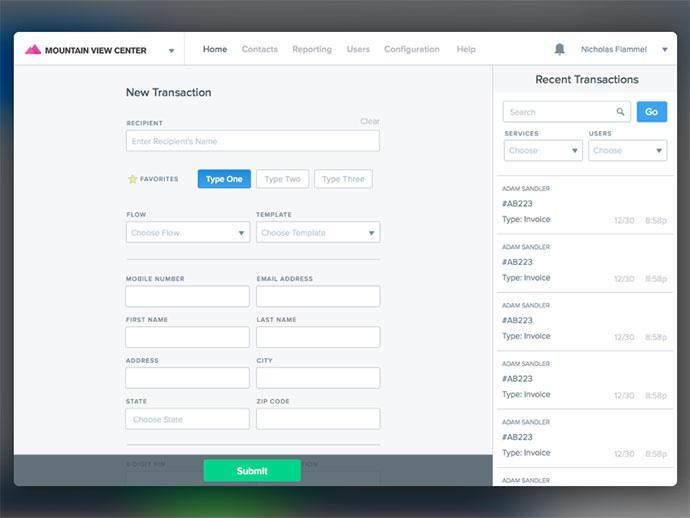button: (315, 171, 374, 190), (199, 170, 252, 189), (257, 171, 310, 190), (638, 103, 669, 124)
dropdown: (257, 223, 381, 245), (128, 222, 251, 243), (590, 141, 669, 162), (506, 141, 584, 161)
icon: (555, 43, 567, 57)
input: (127, 131, 381, 153), (257, 408, 382, 431), (504, 102, 631, 124), (126, 287, 251, 309), (126, 368, 251, 390), (258, 286, 380, 308), (257, 327, 381, 348), (257, 369, 381, 390), (126, 328, 251, 348), (127, 410, 251, 430), (205, 461, 302, 482)
label: (383, 44, 441, 59), (125, 273, 188, 284), (258, 274, 314, 285), (292, 45, 337, 58), (242, 44, 280, 57), (257, 317, 300, 327), (127, 118, 166, 129), (504, 130, 541, 140), (126, 357, 164, 366), (344, 46, 374, 57), (125, 318, 169, 325), (256, 212, 294, 220), (204, 45, 231, 56), (456, 46, 482, 57), (124, 397, 152, 407), (255, 399, 293, 406), (589, 129, 615, 139), (256, 356, 276, 368), (127, 210, 149, 219)
